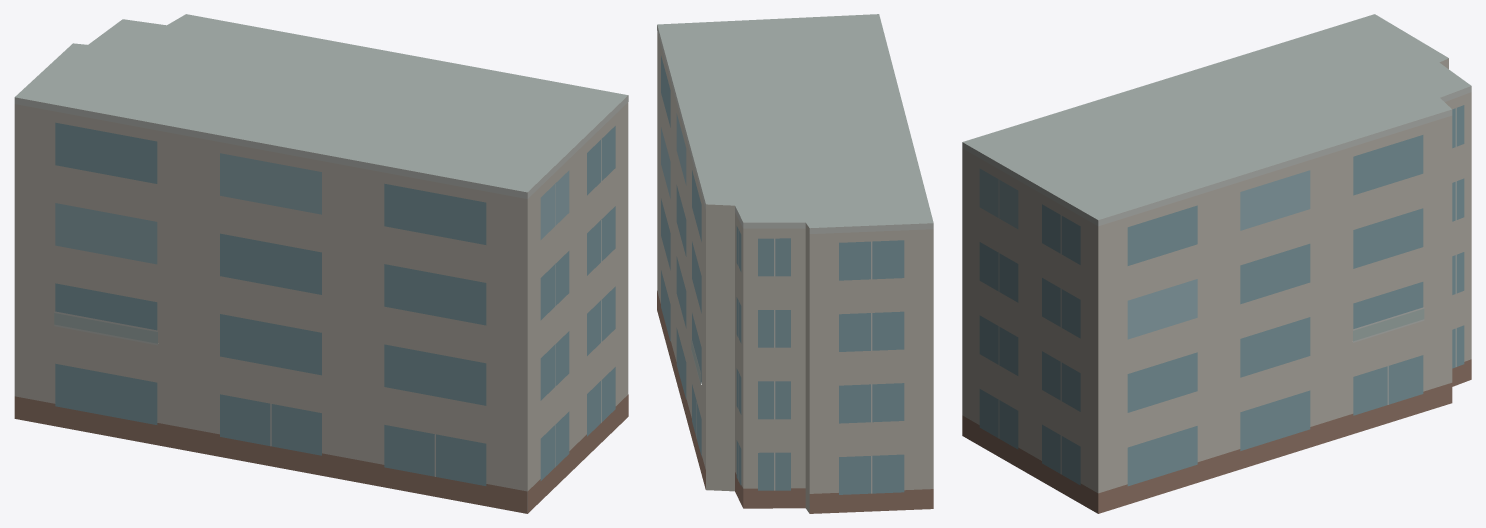
The model's file is survey-upis-32823533.glb.
3 renders of one model, left to right at view 1: azimuth 30°, elevation 25°; view 2: azimuth 150°, elevation 25°; view 3: azimuth 270°, elevation 25°, orthographic. The views are drawn at different scales.
Parts seen in each view (by area): view 1: survey-upis-32823533.tmp; view 2: survey-upis-32823533.tmp; view 3: survey-upis-32823533.tmp.
Boxes of the visible parts, x1=… form: survey-upis-32823533.tmp: x1=14, y1=14, x2=628, y2=513; survey-upis-32823533.tmp: x1=657, y1=14, x2=933, y2=513; survey-upis-32823533.tmp: x1=962, y1=14, x2=1471, y2=513.
Bounding box in the file's own units: 17.63 × 11.7 × 18.4.
